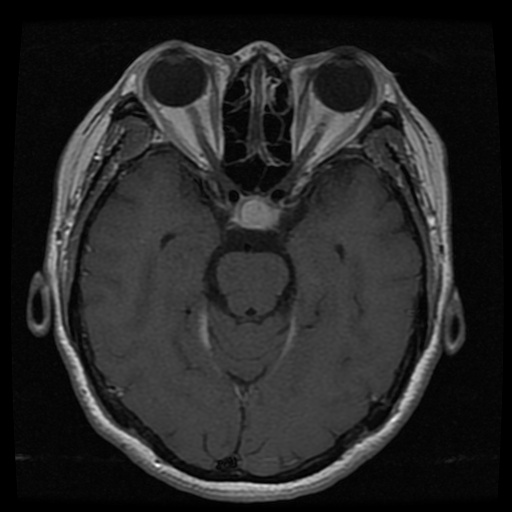pituitary: (234, 194, 276, 228)
